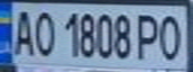0: (93, 10, 115, 60)
1: (60, 8, 81, 57)
8: (112, 10, 136, 60), (78, 9, 96, 58)
A: (6, 6, 36, 56)
O: (157, 10, 187, 62), (30, 7, 57, 57)
P: (133, 10, 163, 61)
